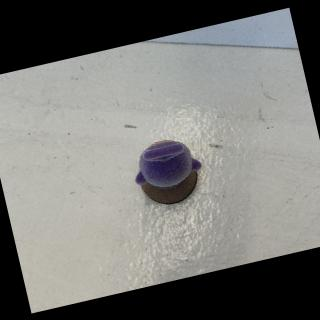teletubby: (135, 140, 201, 187)
